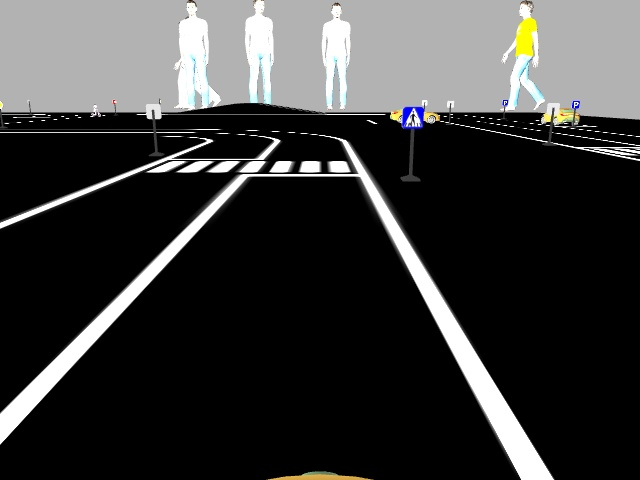Crosswalk: (402, 107, 423, 128)
Parking: (571, 99, 579, 109)
